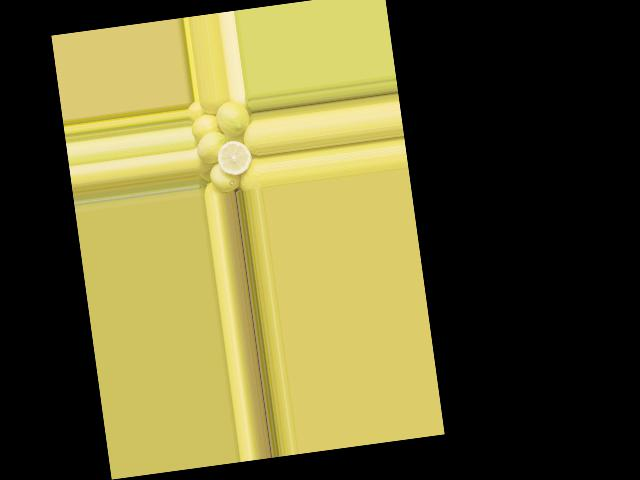lemon: (209, 164, 239, 192)
